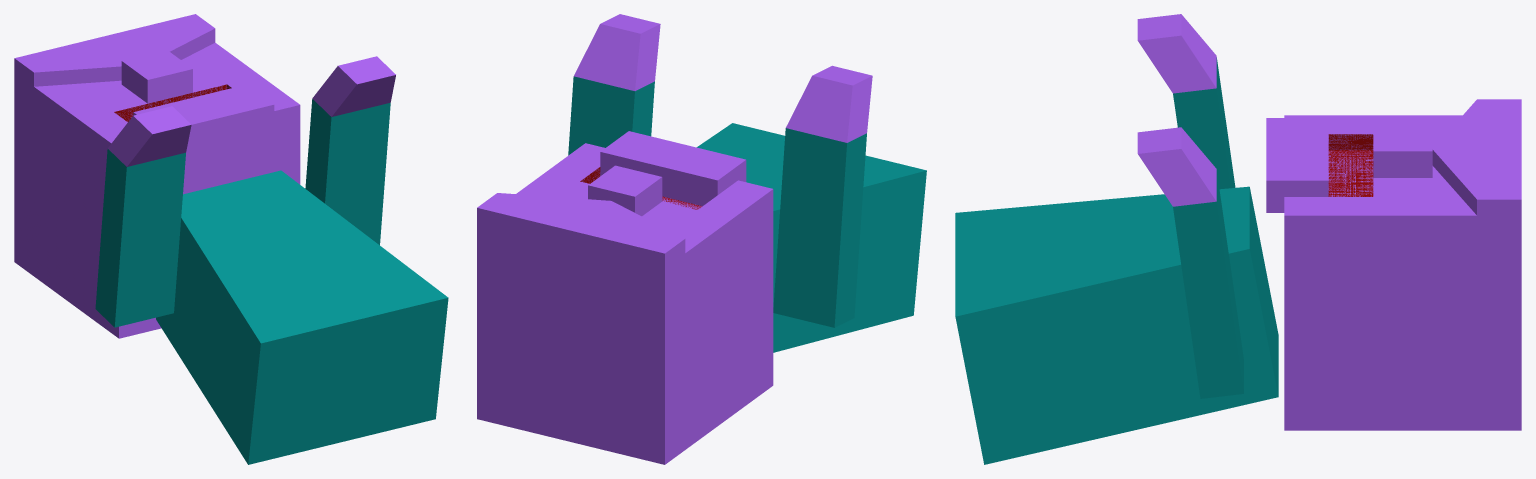
The model's file is Zombie.dae.
3 renders of one model, left to right at view 1: azimuth 30°, elevation 25°; view 2: azimuth 150°, elevation 25°; view 3: azimuth 270°, elevation 25°, orthographic. The views are drawn at different scales.
Visible parts, largest first — view 1: group_2, group_4 (×2), group_3 (×2), group_1 (×2); view 2: group_4, group_3 (×2), group_2, group_1 (×2); view 3: group_4 (×2), group_2, group_1 (×2), group_3 (×2).
Part boxes in pixels (x1,y1,x2,y2): group_2: (156, 170, 448, 464); group_4 (×2): (14, 14, 300, 338); group_3 (×2): (95, 106, 191, 327); group_1 (×2): (305, 56, 395, 245); group_4: (477, 131, 773, 464); group_3 (×2): (773, 65, 872, 327); group_2: (696, 123, 926, 352); group_1 (×2): (568, 14, 660, 155); group_4 (×2): (1266, 99, 1521, 430); group_2: (955, 186, 1278, 464); group_1 (×2): (1137, 127, 1243, 398); group_3 (×2): (1137, 14, 1235, 189).
Size of the model in its own units: 2.29 by 3.76 by 2.43.
